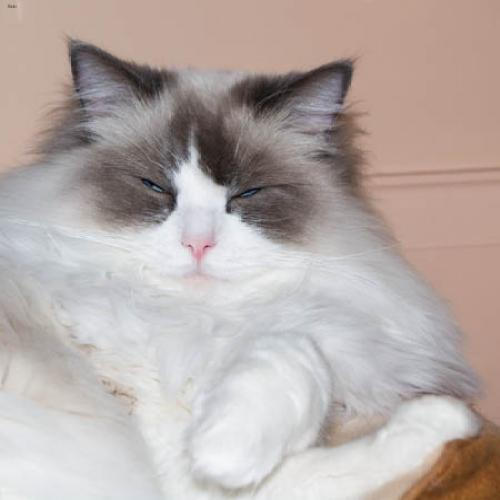ragdoll: (50, 23, 362, 323)
